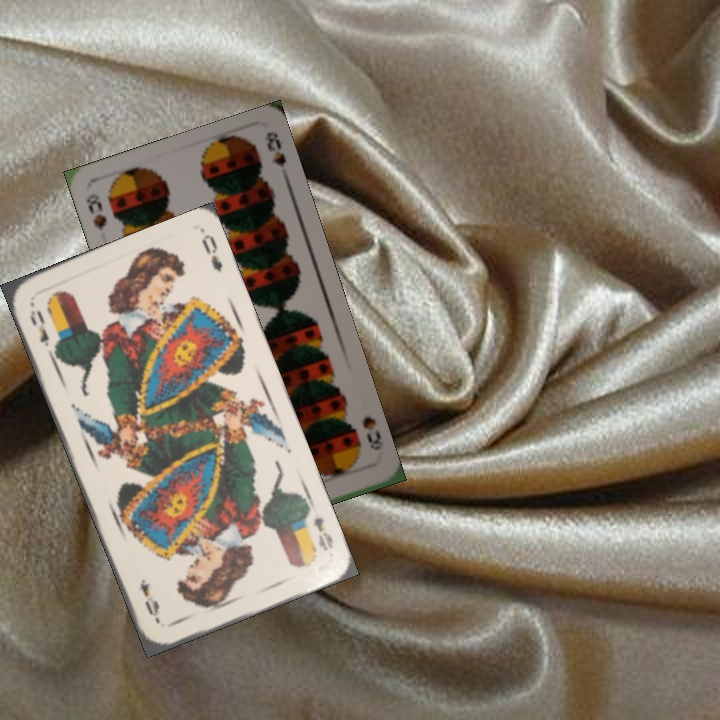EO: (25, 306, 52, 350), (309, 513, 336, 554)
S8: (82, 189, 109, 233), (358, 412, 386, 454)
